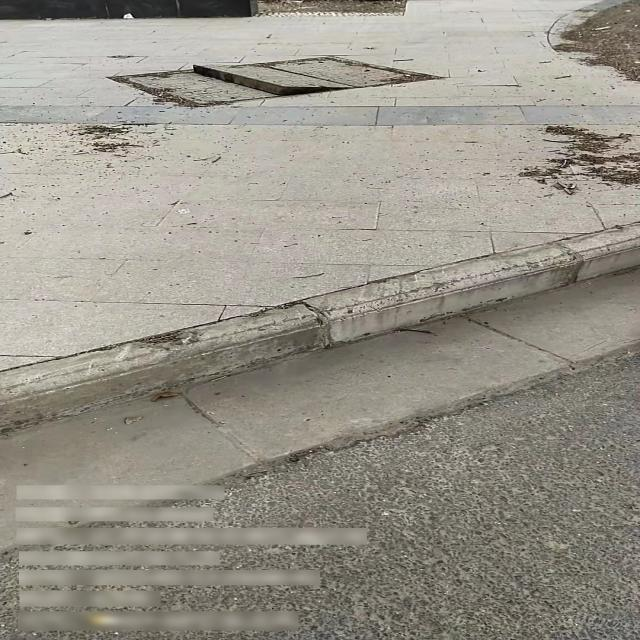Lose: (108, 57, 446, 105)
